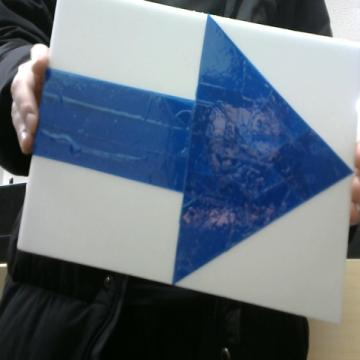blue_right: (34, 16, 352, 283)
